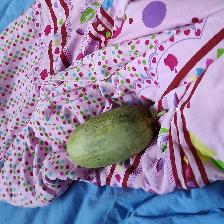gua: (72, 113, 144, 161)
